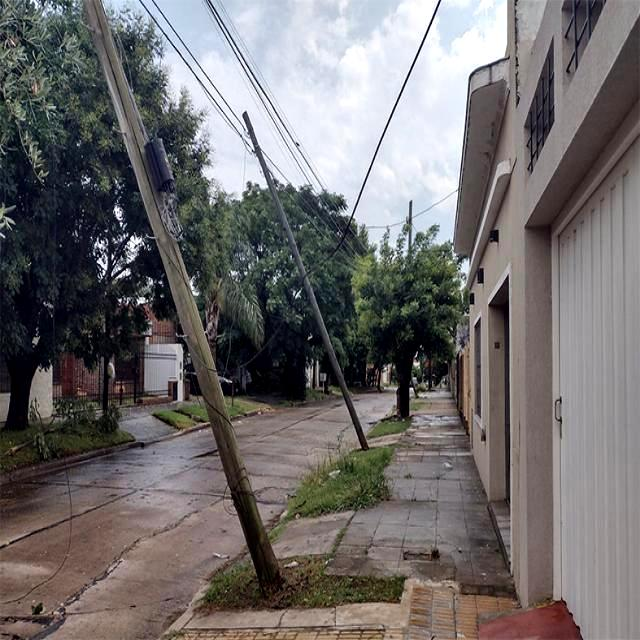Broken Pole: (83, 0, 280, 588), (242, 110, 368, 449)
